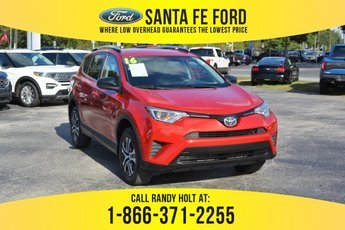Toyota RAV-4: (67, 44, 279, 186)
